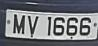1: (43, 15, 53, 38)
6: (65, 15, 79, 39), (79, 16, 92, 40), (52, 16, 66, 38)
M: (12, 14, 26, 37)
V: (27, 14, 40, 38)
